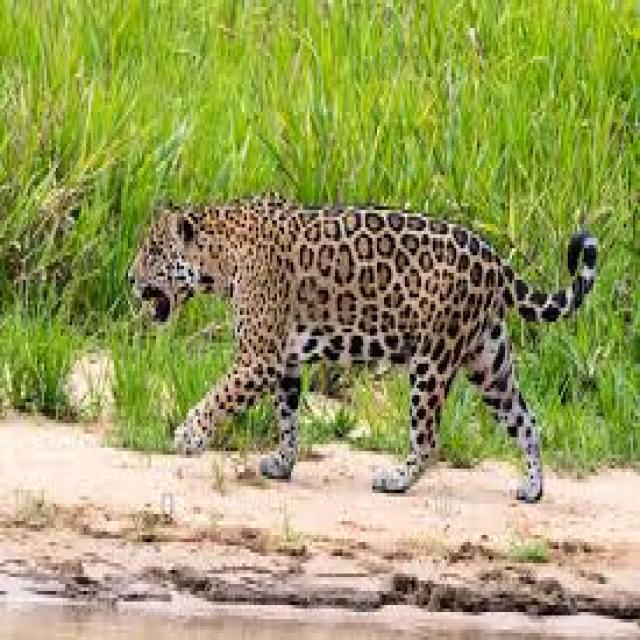Jaguar: (130, 185, 600, 510)
